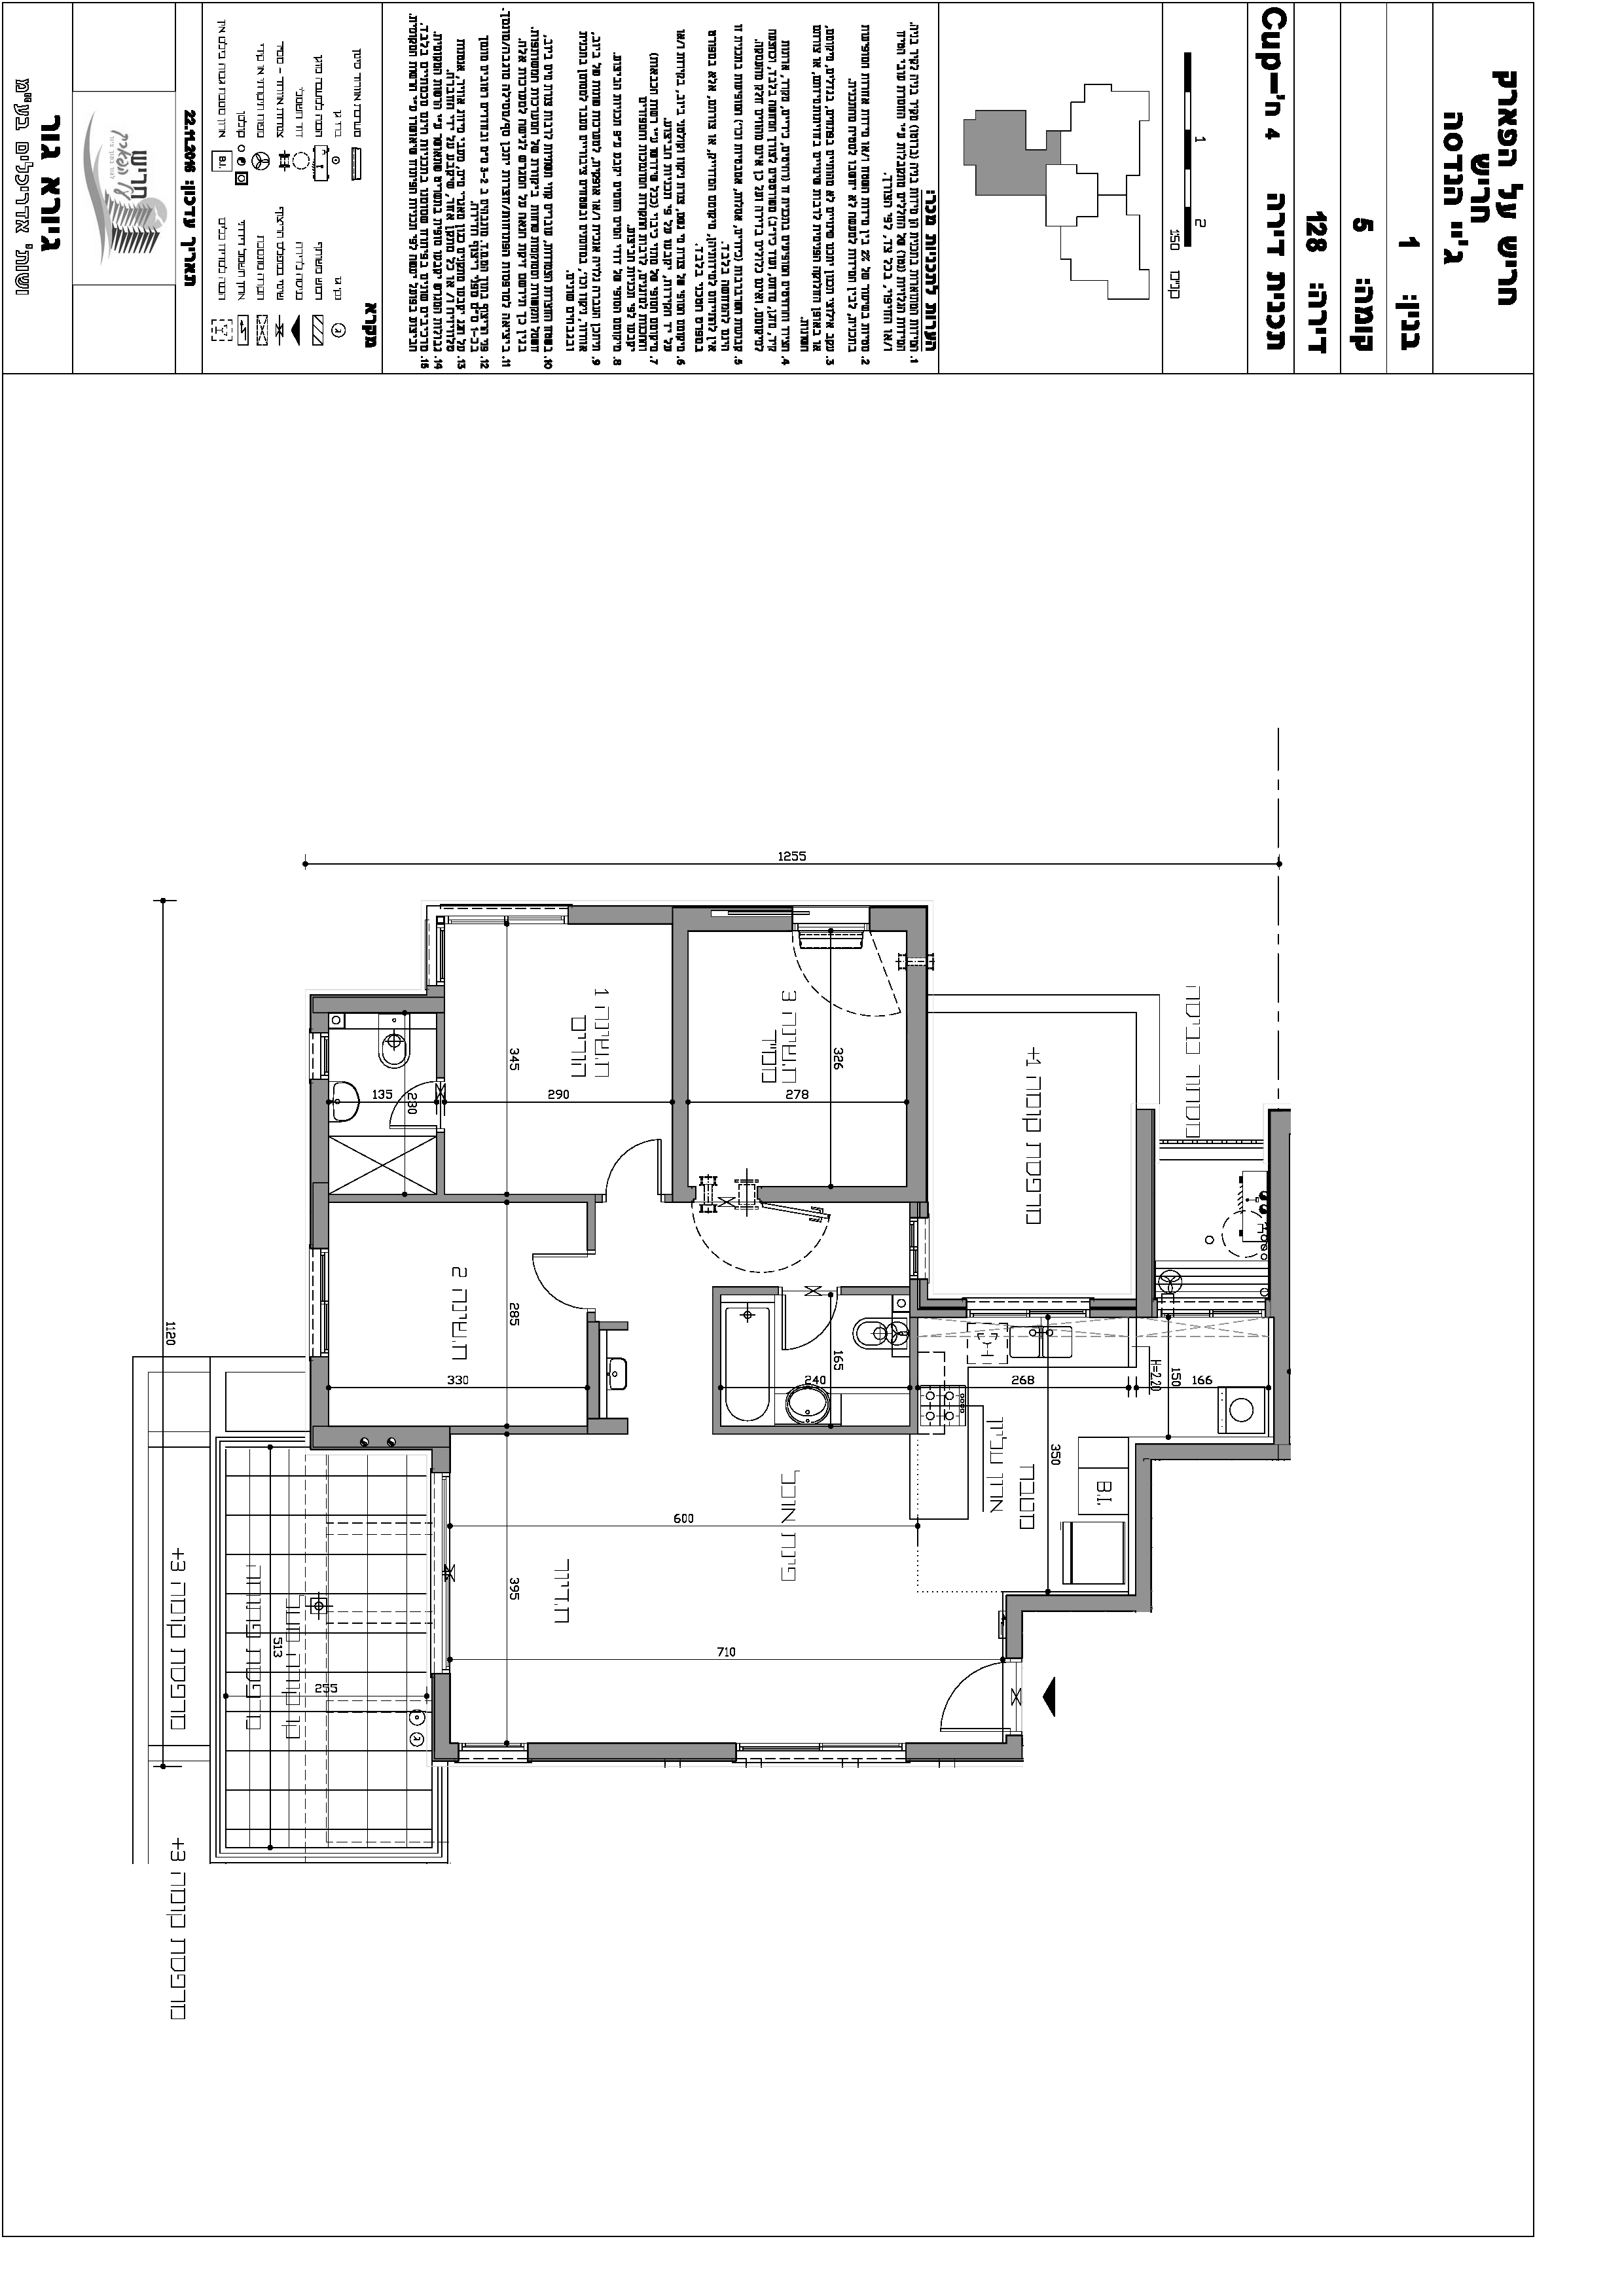door: (928, 1662, 1000, 1736), (598, 1130, 668, 1191), (526, 1244, 582, 1316), (780, 1305, 840, 1356), (388, 1082, 431, 1130)
wall: (1271, 1114, 1288, 1310), (909, 978, 923, 1193), (675, 913, 685, 1180), (541, 1746, 729, 1757), (1137, 1451, 1149, 1599), (1019, 1597, 1120, 1609), (580, 906, 666, 921)
window: (736, 1734, 907, 1778), (965, 1284, 1090, 1326), (441, 899, 568, 929), (302, 1249, 330, 1363), (896, 1216, 937, 1279), (459, 1739, 529, 1771), (304, 1031, 330, 1079)
